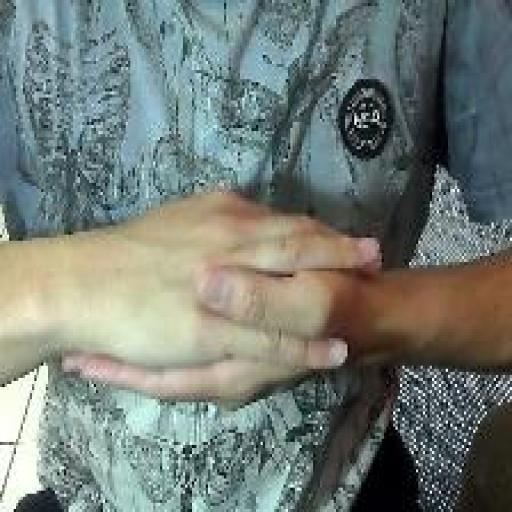Saru -monkey-: (58, 176, 388, 420)
